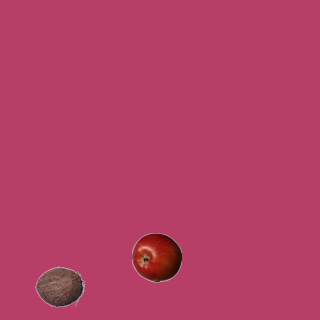Apple Braeburn: (131, 232, 181, 282)
Cocos: (34, 261, 84, 311)
